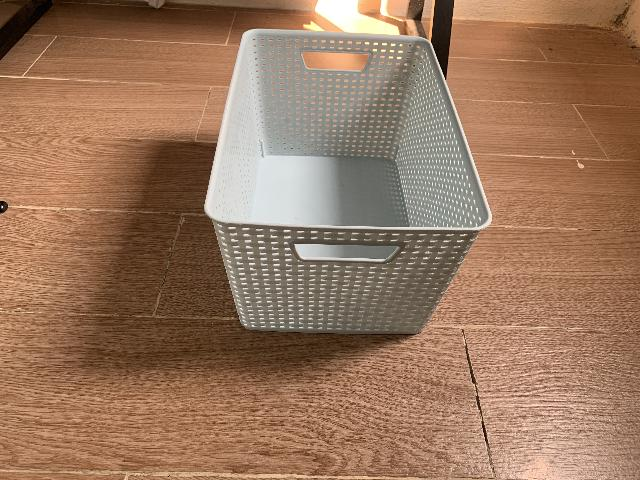cart: (204, 29, 494, 337)
